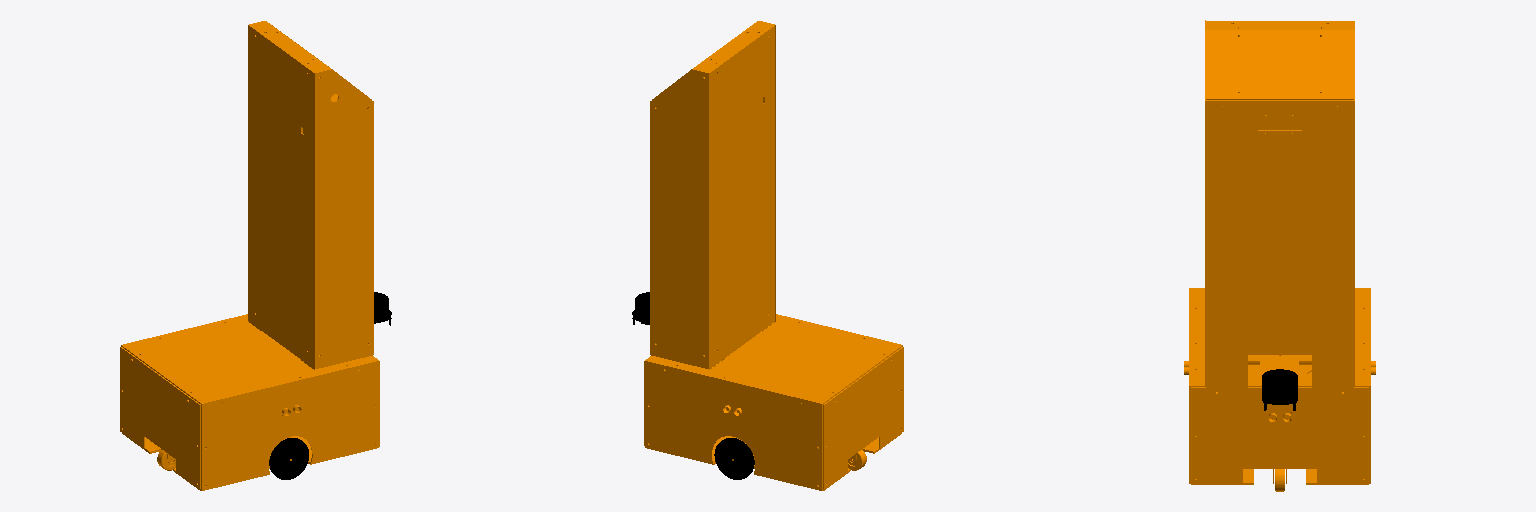
URDF robot description (amr_description):
<?xml version="1.0"?>
<robot name="amr_description">

  <link name="base_footprint">
  </link>

  <link name="base_link">
    <inertial>
      <origin xyz="0.0573811155499902 -3.15085001608151E-05 0.05" rpy="0 0 0" /> 
      <!-- z:0.293014909183045 -->
      <mass value="6.49828952342219" />
      <inertia ixx="0.10831502493104" ixy="-4.19648528471796E-05" ixz="0.000515021477523596" iyy="0.110652299028072" iyz="-7.80001661147026E-06" izz="0.0700204562865023" />
    </inertial>
    <visual>
      <origin xyz="0 0 0" rpy="0 0 0" />
      <geometry>
        <mesh filename="package://amr_description/meshes/base_link.STL" />
      </geometry>
      <material name="orange">
        <color rgba="1.0 0.6 0.0 1.0" />
      </material>
    </visual>
    <collision>
      <origin xyz="0 0 0" rpy="0 0 0" />
      <geometry>
        <mesh filename="package://amr_description/meshes/base_link.STL" />
      </geometry>
    </collision>
  </link>

  <link name="left_wheel">
      <inertial>
        <origin xyz="3.28239878888414E-08 -0.00552939150401838 -3.98384668136298E-07" rpy="0 0 0" />
        <mass value="0.0684081800319178" />
        <inertia ixx="3.82915497855633E-05" ixy="2.03623474213224E-13" ixz="6.41862752019354E-10" iyy="7.53609854989785E-05" iyz="-2.47137791906539E-12" izz="3.83203442237202E-05" />
      </inertial>
      <visual>
        <origin xyz="0 0 0" rpy="0 0 0" />
        <geometry>
          <mesh filename="package://amr_description/meshes/left_wheel.STL" />
        </geometry>
        <material name="black">
          <color rgba="0 0 0 1" />
        </material>
      </visual>
      <collision>
        <origin xyz="0 0 0" rpy="1.570796 0 0" /> 
        <geometry>
          <cylinder radius="0.0475" length="0.015" /> 
        </geometry>
      </collision>
  </link>

  <link name="right_wheel">
    <inertial>
      <origin xyz="8.17543171216517E-08 0.00552939150401837 3.91285049070045E-07" rpy="0 0 0" />
      <mass value="0.0684081800319177" />
      <inertia ixx="3.82918313584627E-05" ixy="-5.07162587828131E-13" ixz="2.90524317954789E-09" iyy="7.53609854989785E-05" iyz="-2.42733544589802E-12" izz="3.83200626508208E-05" />
    </inertial>
    <visual>
      <origin xyz="0 0 0" rpy="0 0 0" />
      <geometry>
        <mesh filename="package://amr_description/meshes/right_wheel.STL" />
      </geometry>
      <material name="black">
        <color rgba="0 0 0 1" />
      </material>
    </visual>
    <collision>
      <origin xyz="0 0 0" rpy="1.570796 0 0" /> 
      <geometry>
        <cylinder radius="0.0475" length="0.015" /> 
      </geometry>
    </collision>
  </link>

  <link name="laser_frame">
    <inertial>
      <origin xyz="-0.0067658201369028 0.000134380447593757 -0.0224318722671597" rpy="0 0 0" />
      <mass value="1.33076913637071" />
      <inertia ixx="0.000614921489480325" ixy="1.36760608272215E-06" ixz="-0.000158220512756306" iyy="0.000960693786590987" iyz="4.08445441673537E-06" izz="0.00109815200027136" />
    </inertial>
    <visual>
      <origin xyz="0 0 0" rpy="0 0 0" />
      <geometry>
        <mesh filename="package://amr_description/meshes/laser_frame.STL" />
      </geometry>
      <material name="black">
        <color rgba="0 0 0 1" />
      </material>
    </visual>
    <collision>
      <origin xyz="0 0 0" rpy="0 0 0" />
      <geometry>
        <mesh filename="package://amr_description/meshes/laser_frame.STL" />
      </geometry>
    </collision>
  </link>



  <joint name="base_link_jt" type="fixed">
    <origin xyz="0 0 0" rpy="0 0 0" />
    <!-- <origin xyz="0 -1.6357E-05 0.020026" rpy="0 0 0" /> -->
    <parent link="base_footprint" />
    <child link="base_link" />
    <axis xyz="0 0 0" />
  </joint>

  <joint name="left_wheel_jt" type="continuous">
    <origin xyz="0.00024987 0.1735 0.025002" rpy="0 0 0" />
    <parent link="base_link" />
    <child link="left_wheel" />
    <axis xyz="0 1 0" />
    <!-- <axis xyz="0.0025766 1 0" /> -->
    <dynamics damping="0.1" friction="0.1"/> 
  </joint>

  <joint name="right_wheel_jt" type="continuous">
    <origin xyz="-0.000250333996295538 -0.1735 0.0249984014574222" rpy="0 0 0" />
    <parent link="base_link" />
    <child link="right_wheel" />
    <axis xyz="0.00257662037882855 0.999996680483112 0" />
    <dynamics damping="0.1" friction="0.1"/> 
  </joint>

  <joint name="laser_frame_jt" type="fixed">
    <origin xyz="0.302324380505574 0.0 0.2657" rpy="0 0 0" />
    <parent link="base_link" />
    <child link="laser_frame" />
    <axis xyz="0 0 0" />
  </joint>

  <link name="camera_link" />

  <joint name="camera_joint" type="fixed">
    <origin xyz="0.219919 0.038124 0.79" rpy="0 0 0" />
    <parent link="base_link" />
    <child link="camera_link" /> 
  </joint>

  <link name="imu_link">
    <inertial>
      <mass value="0.01"/>
      <inertia ixx="1e-6" ixy="0" ixz="0" iyy="1e-6" iyz="0" izz="1e-6"/>
    </inertial>
  </link>

  <joint name="imu_joint" type="fixed">
    <parent link="base_link"/>
    <child link="imu_link"/>
    <origin xyz="0 0 0.1" rpy="0 0 0"/>
  </joint>

</robot>

--- Render facts (derived) ---
3 views of the same robot in one strip: view 1: azimuth 30°, elevation 25°; view 2: azimuth 150°, elevation 25°; view 3: azimuth 270°, elevation 25° (orthographic).
Robot: amr_description — 7 links, 6 joints (2 continuous, 4 fixed); root link base_footprint; default pose: every joint at zero.
Links seen in each view (by area): view 1: base_link, right_wheel; view 2: base_link, left_wheel; view 3: base_link, laser_frame.
Link boxes in pixels (<box>): base_link: <box>120,21,379,490</box>; right_wheel: <box>269,438,308,479</box>; base_link: <box>644,21,903,490</box>; left_wheel: <box>714,438,754,479</box>; base_link: <box>1184,20,1375,491</box>; laser_frame: <box>1262,369,1297,410</box>.
Size in the robot's own frame: 0.5627 by 0.364 by 0.9307 metres.
4 mesh visuals loaded from 4 distinct referenced files (4 binary STL).
